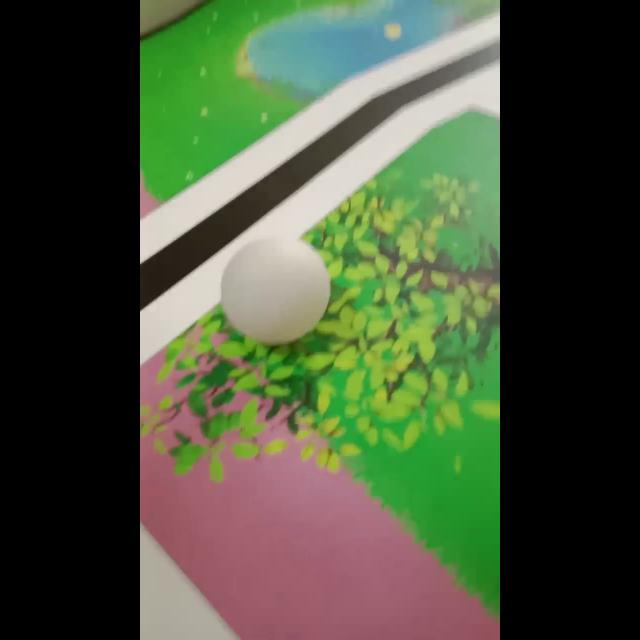white ball: (219, 236, 331, 346)
